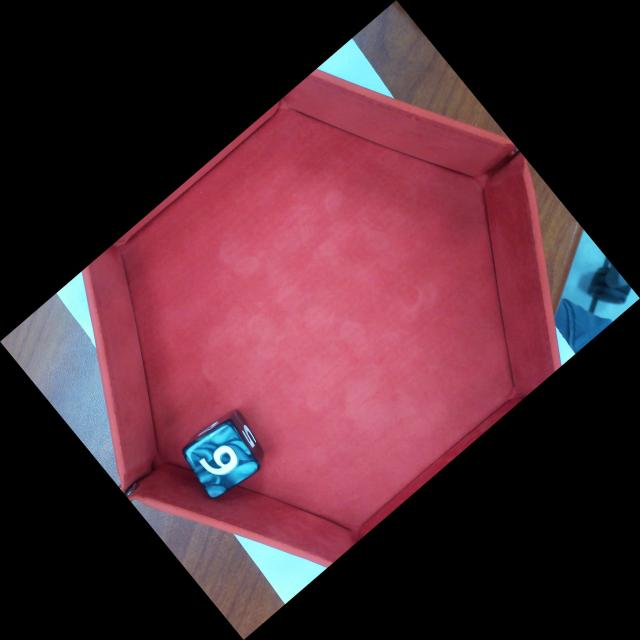dice: (188, 421, 263, 502)
